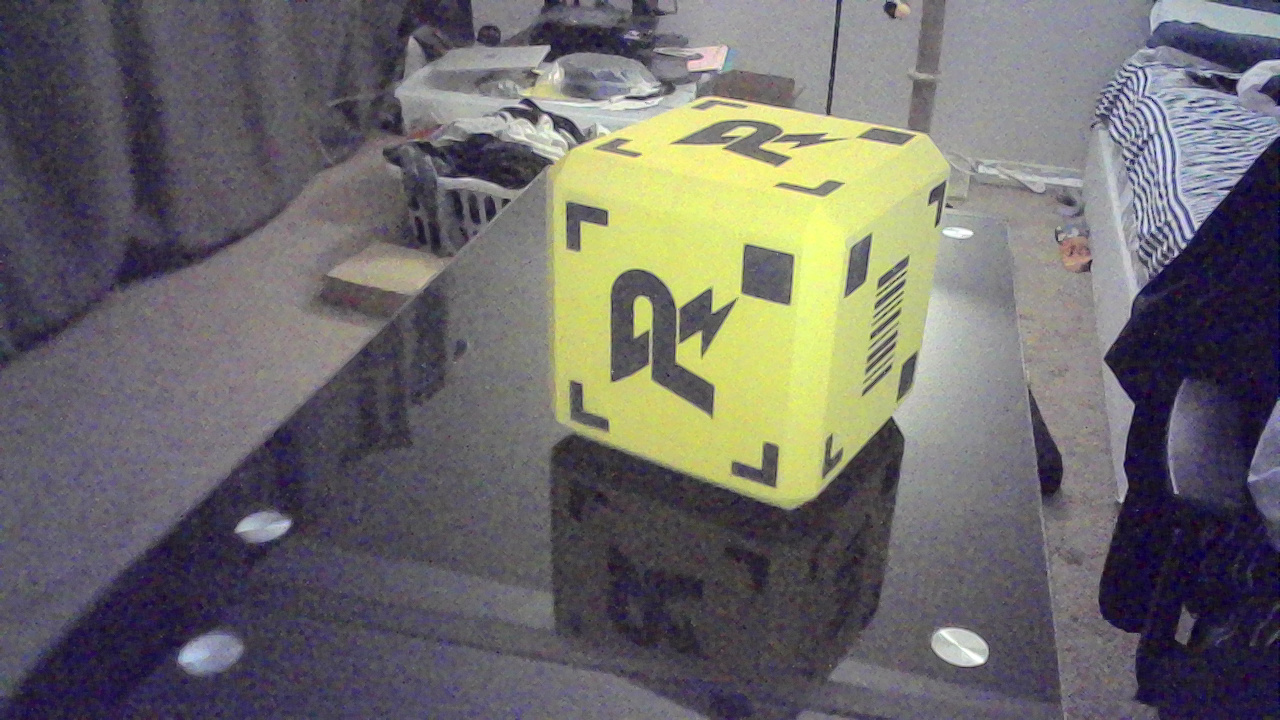Barcode: (858, 260, 923, 412)
R: (610, 263, 742, 420), (681, 119, 837, 175)
